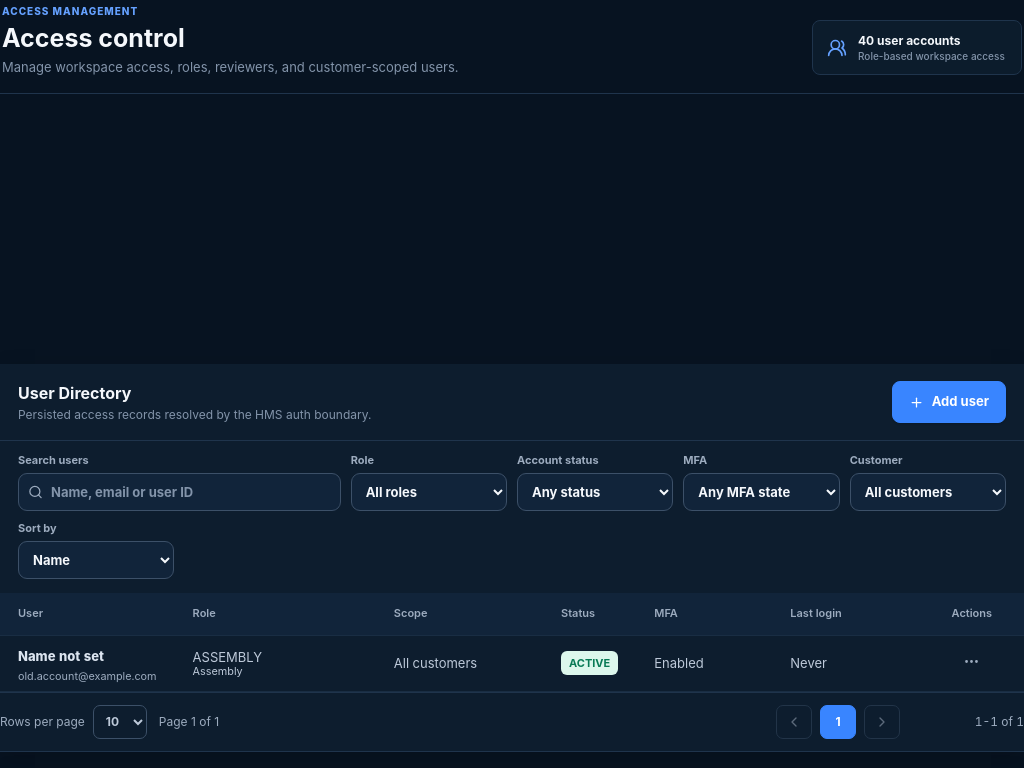
Test: states › ignores a slow answer to an earlier search
Check: the text "old.account@example.com" is shown, box left=18, top=670, right=157, bottom=682
Type "j" into the search field labelled "Search users" at {"x": 179, "y": 492}, box left=18, top=473, right=341, bottom=511
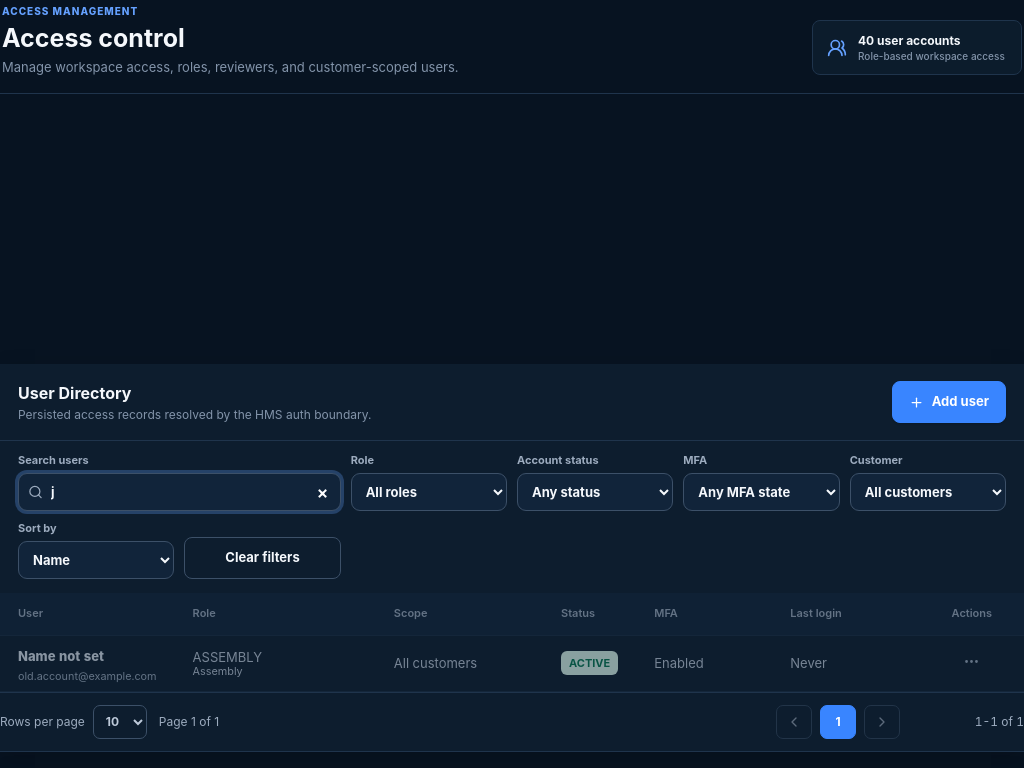
Type "o" into the search field labelled "Search users" at {"x": 179, "y": 492}, box left=18, top=473, right=341, bottom=511
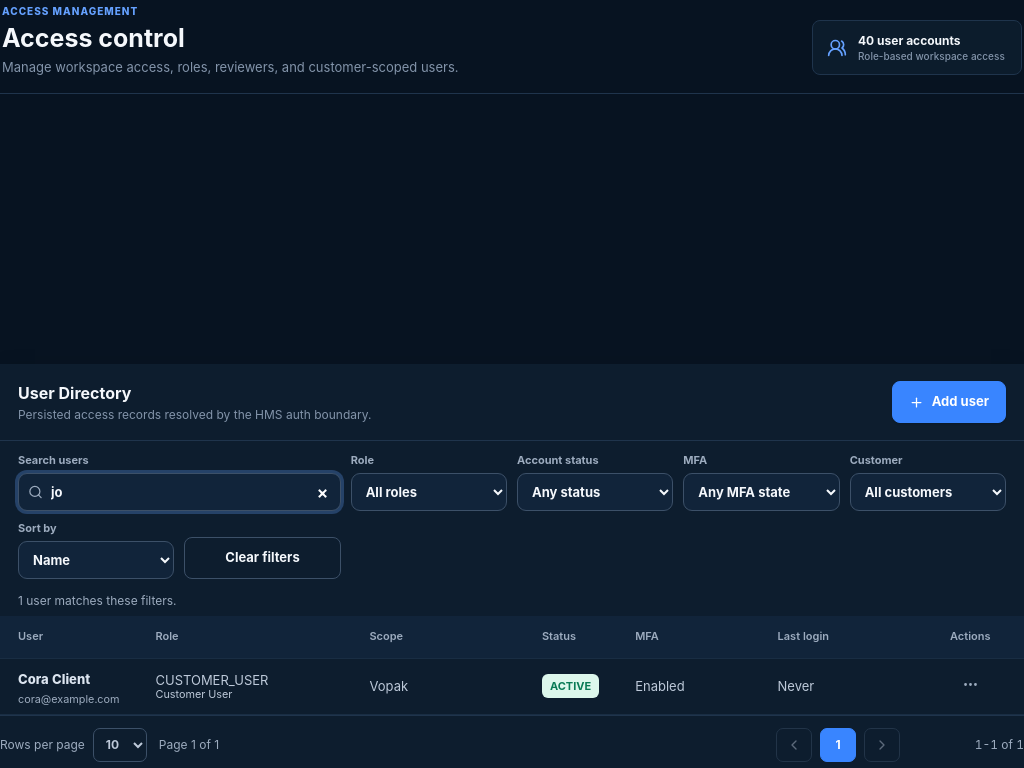
Check: the text "Cora Client" is shown, box left=18, top=666, right=90, bottom=690
